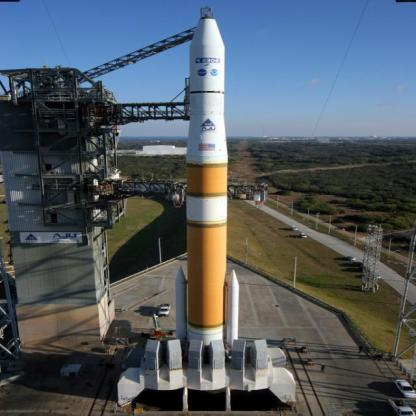MIL_TBM: (187, 8, 232, 354)
